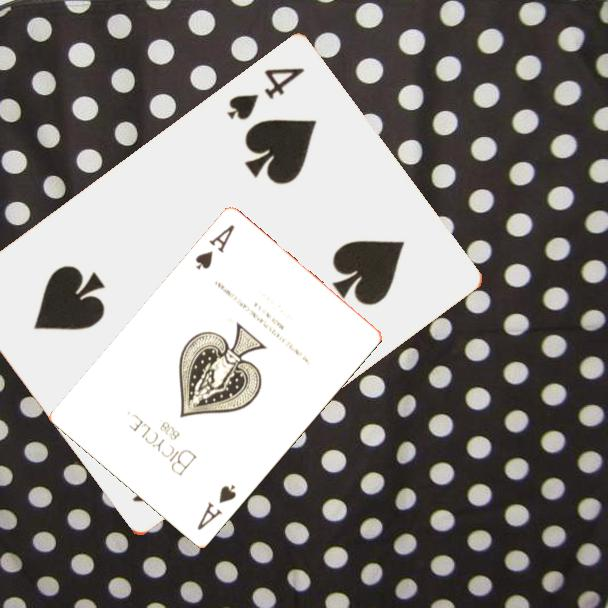s01: (193, 482, 239, 534), (192, 222, 238, 273)
s04: (223, 64, 308, 124)
